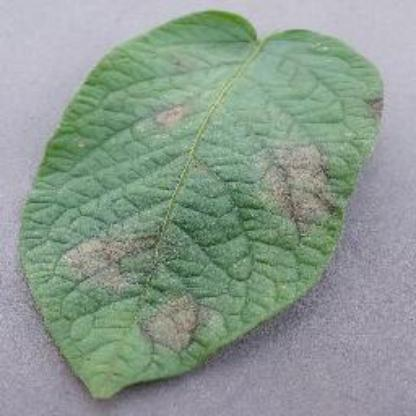Late-Blight: (29, 20, 383, 394)
